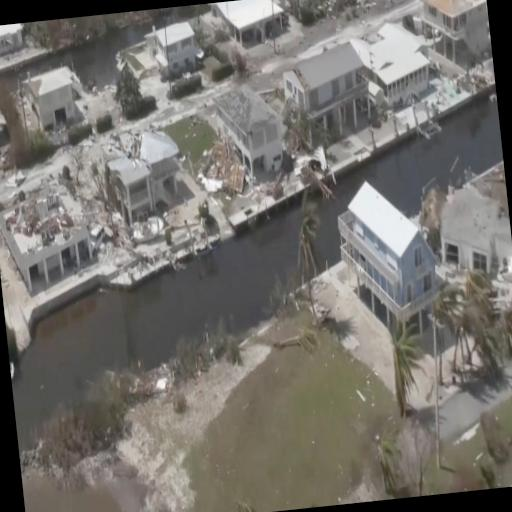flood: (12, 208, 303, 437), (335, 85, 504, 218), (0, 23, 148, 91), (313, 199, 340, 268)
house: (330, 174, 444, 330), (278, 38, 372, 140), (0, 190, 95, 285), (421, 0, 491, 52), (380, 54, 434, 104), (150, 20, 200, 72)
